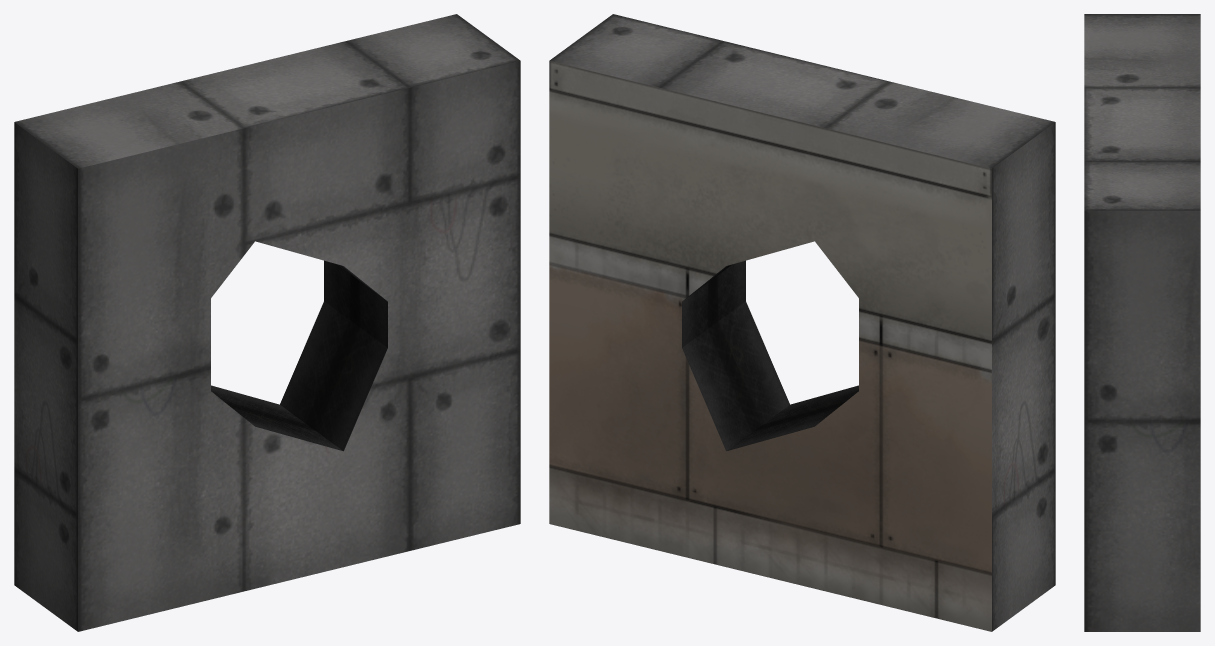
The model's file is surfacehole0_single.obj.
3 renders of one model, left to right at view 1: azimuth 30°, elevation 25°; view 2: azimuth 150°, elevation 25°; view 3: azimuth 270°, elevation 25°, orthographic. The views are drawn at different scales.
Parts seen in each view (by area): view 1: surfacehole0_single_surfacehole0_single_mesh; view 2: surfacehole0_single_surfacehole0_single_mesh; view 3: surfacehole0_single_surfacehole0_single_mesh.
Boxes of the visible parts, x1,y1,x2,y2 form: surfacehole0_single_surfacehole0_single_mesh: [14, 14, 520, 631]; surfacehole0_single_surfacehole0_single_mesh: [549, 14, 1055, 631]; surfacehole0_single_surfacehole0_single_mesh: [1084, 14, 1200, 631].
Bounding box in the file's own units: 1 × 1 × 0.25.
